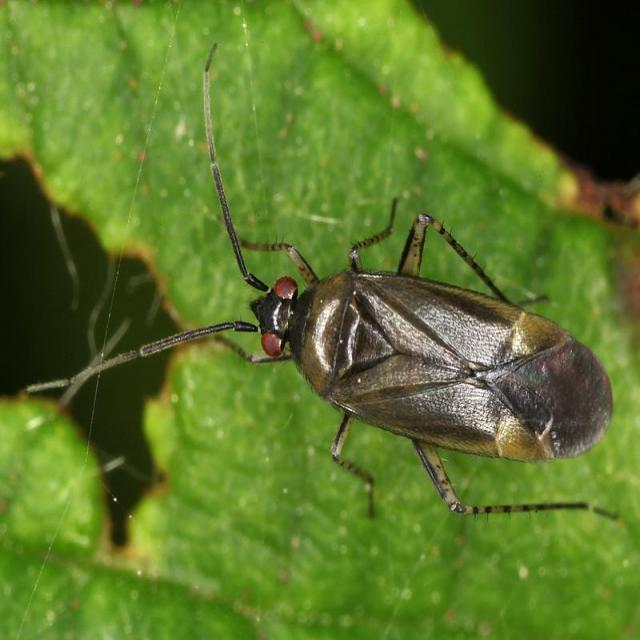Miridae-Adult-: (91, 38, 614, 510)
